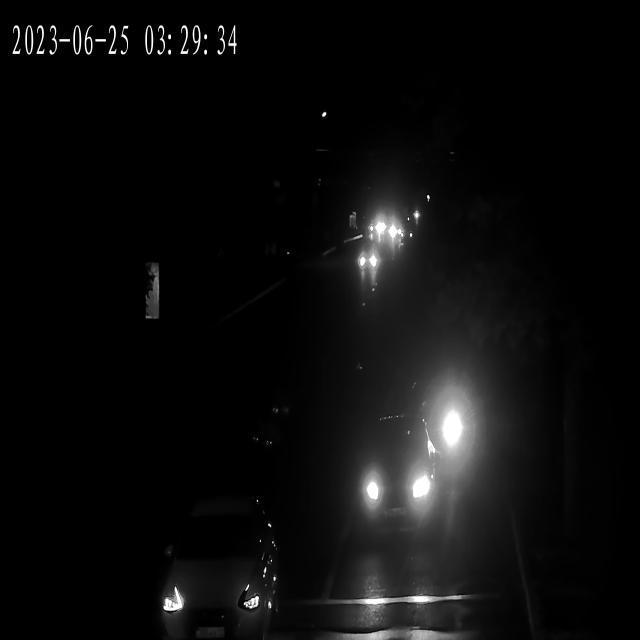Car: (158, 512, 278, 638), (412, 363, 480, 483), (350, 442, 440, 528), (353, 245, 379, 273), (366, 217, 385, 245), (386, 220, 404, 245)
